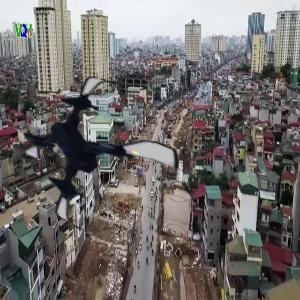drone: (18, 74, 181, 237)
